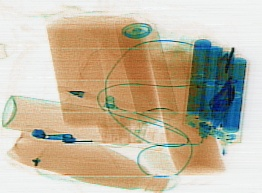powerbank: (180, 37, 249, 144)
pressure: (0, 93, 143, 146), (113, 14, 176, 120)
